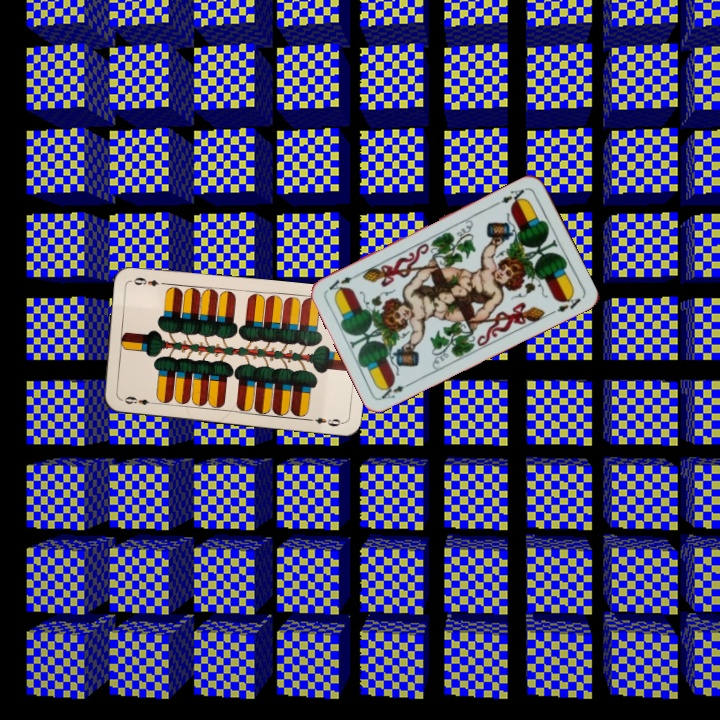E9: (117, 392, 157, 408)
EA: (377, 378, 415, 401), (497, 184, 529, 208)
